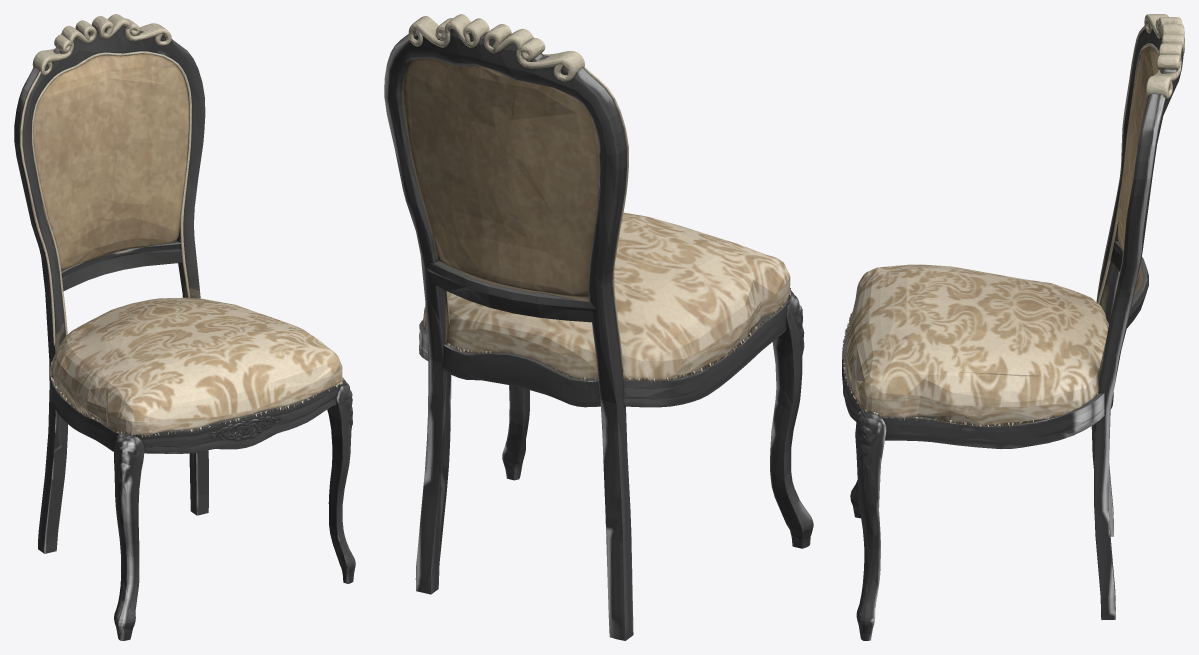
3 views of the same model, side by side, from view 1: azimuth 30°, elevation 25°; view 2: azimuth 150°, elevation 25°; view 3: azimuth 270°, elevation 25° (orthographic). The views are drawn at different scales.
Visible parts, largest first — view 1: solid_001_wire; view 2: solid_001_wire; view 3: solid_001_wire.
Boxes of the visible parts, box(x1,y1,x2,y2) form: solid_001_wire: box(14, 14, 355, 640); solid_001_wire: box(384, 14, 813, 640); solid_001_wire: box(842, 14, 1184, 640).
Bounding box in the file's own units: 0.5591 × 1.08 × 0.6157.
Materials: 1 (1 with a texture image).
